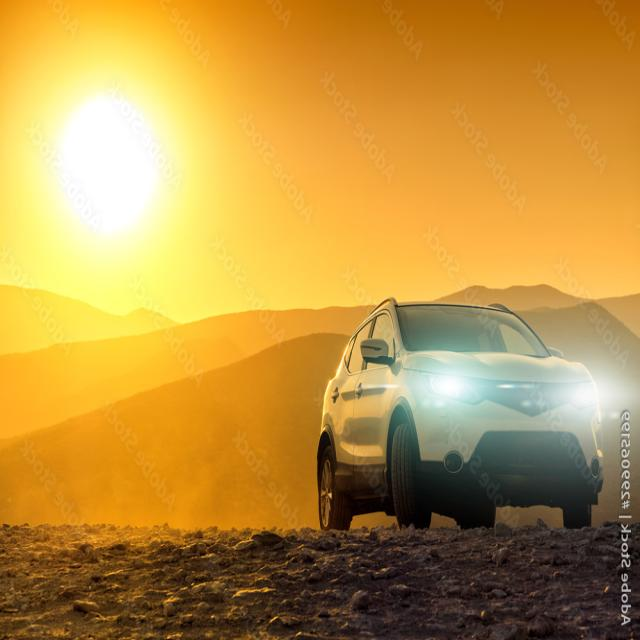sun: (5, 49, 220, 288)
